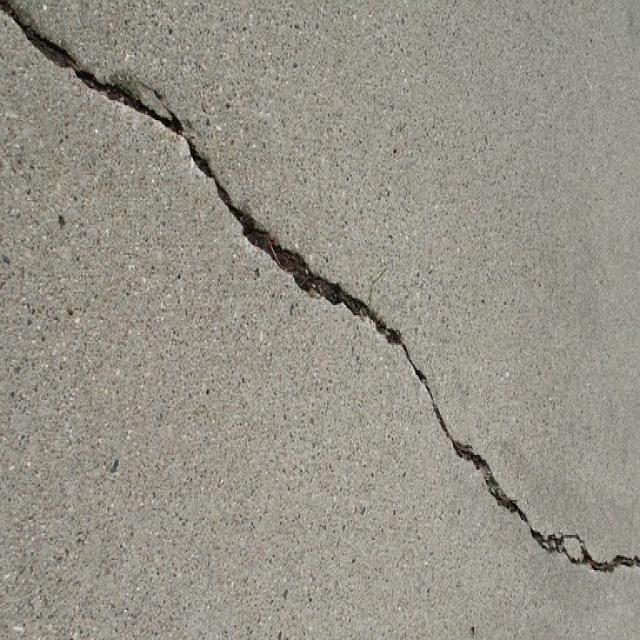crack: (264, 225, 457, 445), (116, 72, 265, 254), (455, 442, 639, 576), (1, 0, 116, 106)
